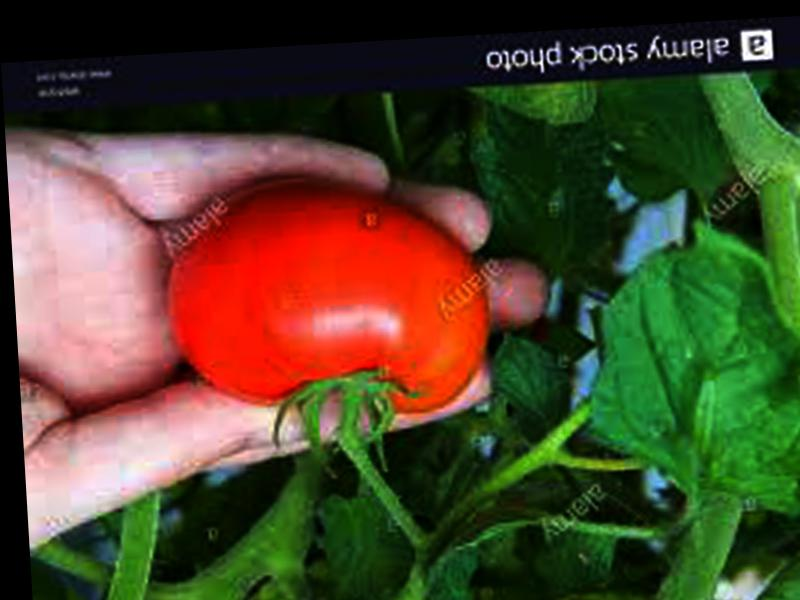Tomato: (159, 176, 494, 426)
